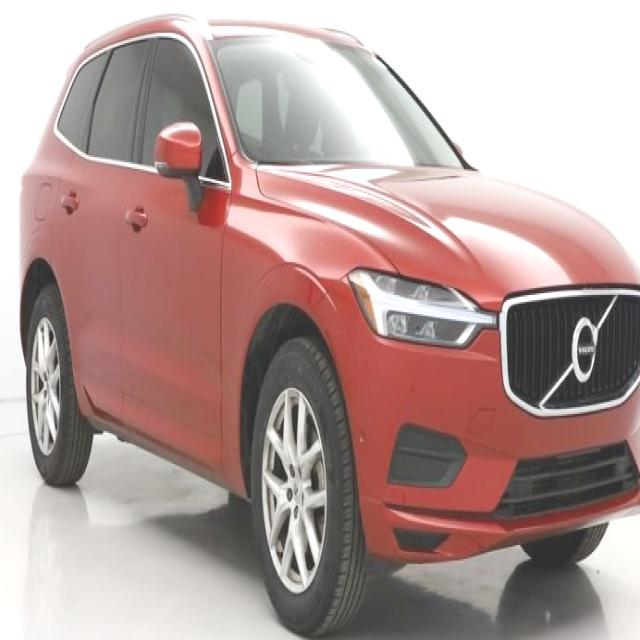red: (18, 0, 639, 562)
